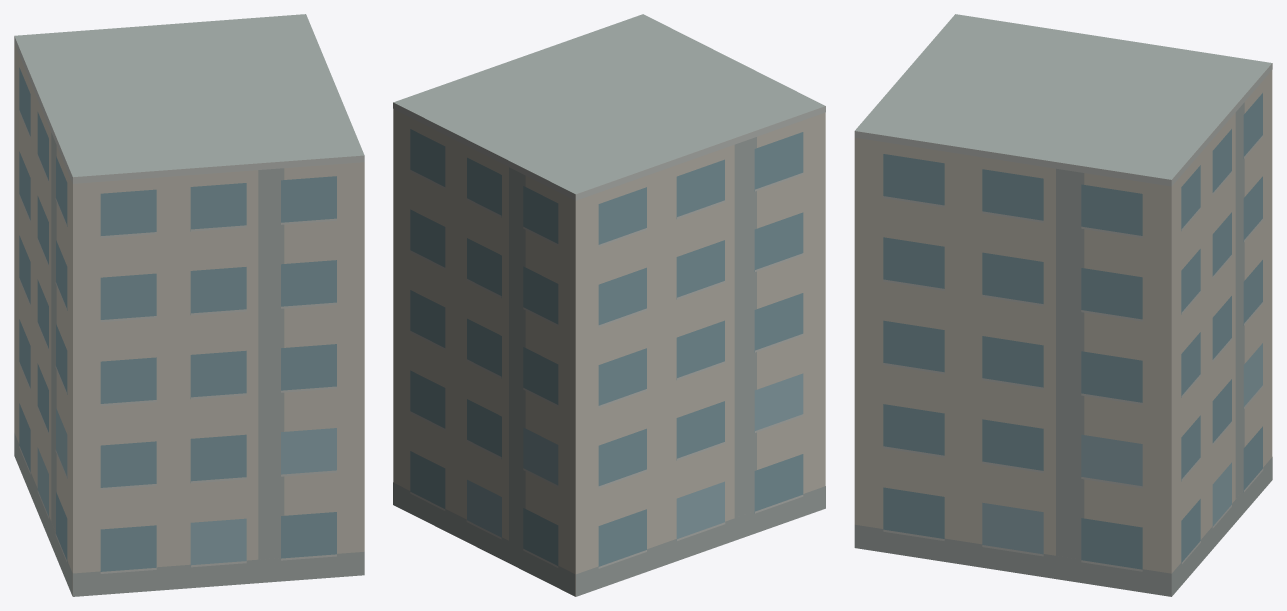
Rendered from residential-c429bca2-56a9-4925-9fd9-11fa926e7623.glb.
3 views of the same model, side by side, from view 1: azimuth 30°, elevation 25°; view 2: azimuth 150°, elevation 25°; view 3: azimuth 270°, elevation 25° (orthographic). The views are drawn at different scales.
Parts seen in each view (by area): view 1: residential-c429bca2-56a9-4925-9fd9-11fa926e7623.tmp; view 2: residential-c429bca2-56a9-4925-9fd9-11fa926e7623.tmp; view 3: residential-c429bca2-56a9-4925-9fd9-11fa926e7623.tmp.
Part boxes in pixels (left/top/right/bottom): residential-c429bca2-56a9-4925-9fd9-11fa926e7623.tmp: left=14, top=14, right=364, bottom=596; residential-c429bca2-56a9-4925-9fd9-11fa926e7623.tmp: left=393, top=14, right=825, bottom=596; residential-c429bca2-56a9-4925-9fd9-11fa926e7623.tmp: left=854, top=14, right=1272, bottom=596.
Bounding box in the file's own units: 13.02 × 15.25 × 13.86.
